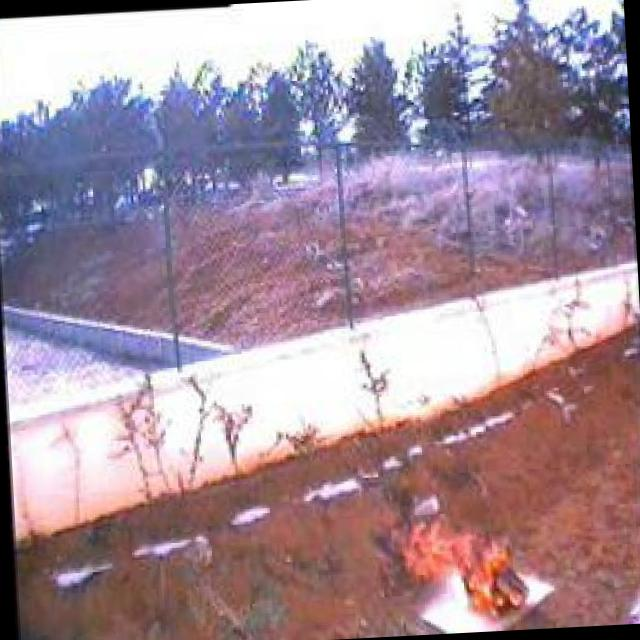Fire: (398, 512, 538, 624)
Smoke: (398, 512, 538, 624)
